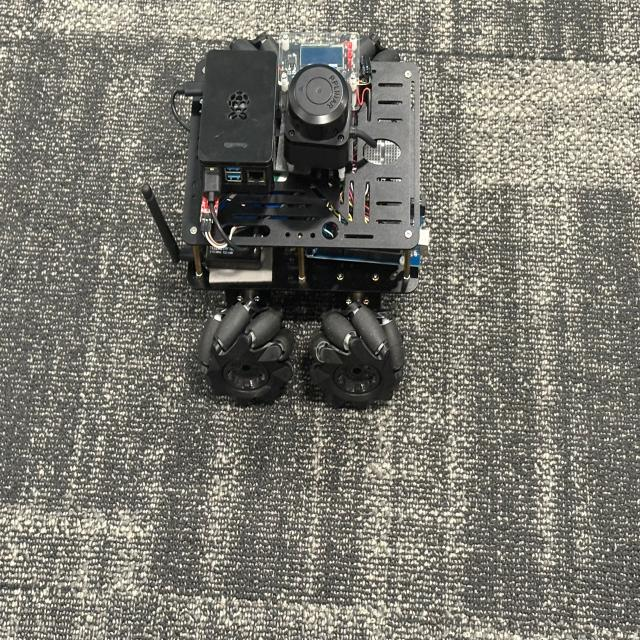ArduinoCar3: (136, 27, 432, 412)
